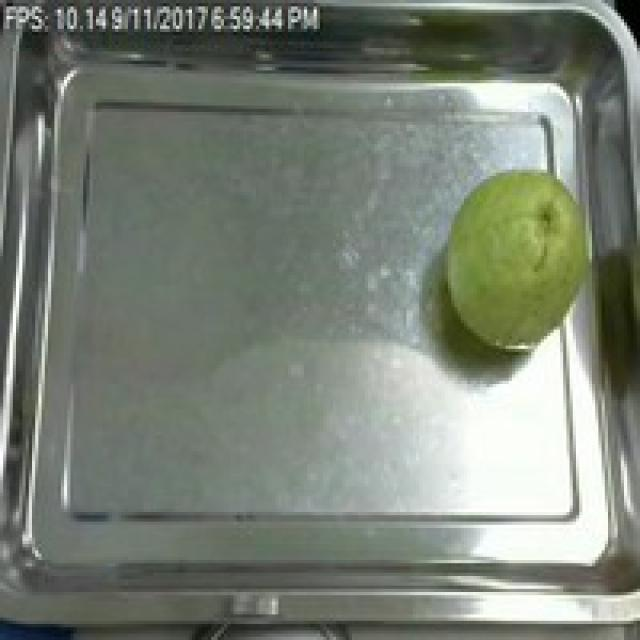Fruit: (429, 154, 608, 362)
